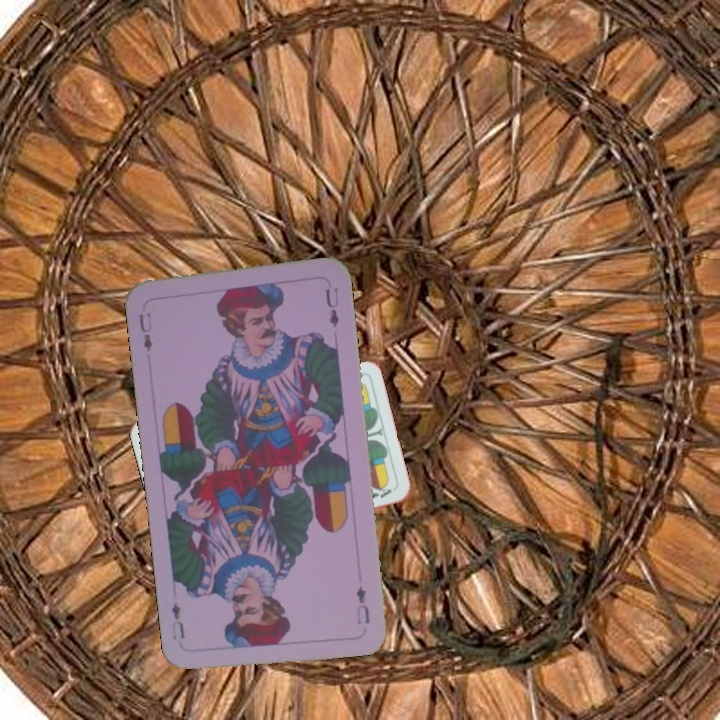EU: (135, 310, 155, 355), (352, 582, 372, 627)
